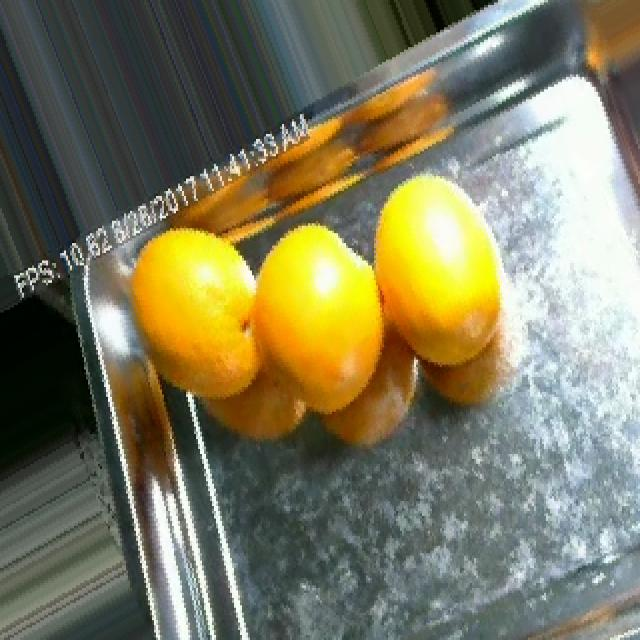Fruit: (556, 0, 640, 181)
